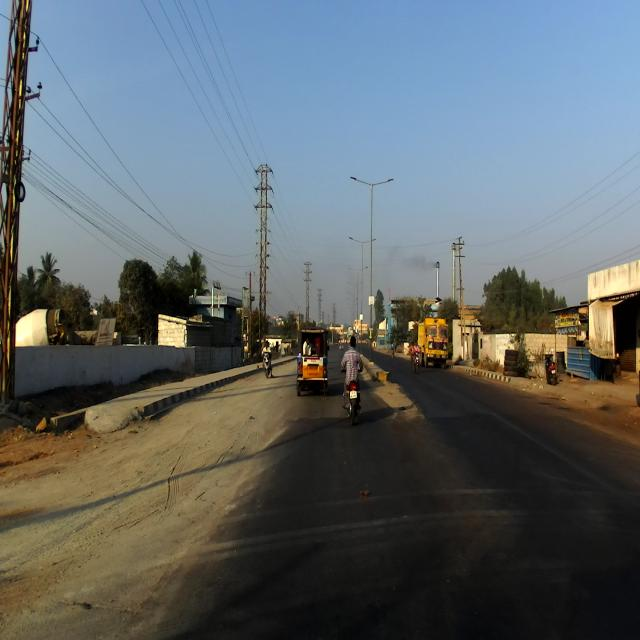car ahead at: (294, 325, 331, 399)
electric pole ahead at: (1, 0, 47, 423)
